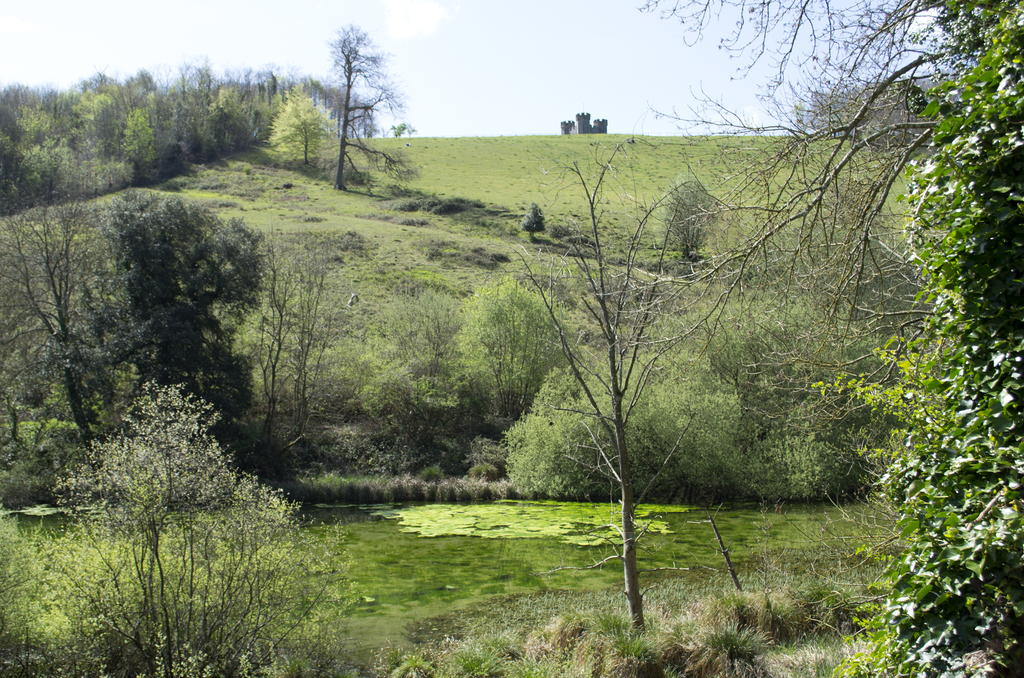Tree: (5, 0, 1023, 677), (327, 22, 420, 193)
